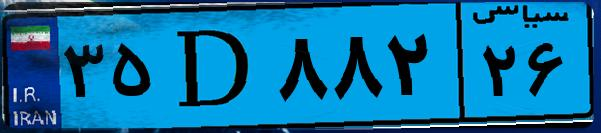2: (385, 28, 445, 110), (475, 38, 525, 113)
3: (57, 26, 110, 100)
5: (110, 28, 158, 98)
6: (525, 38, 570, 115)
8: (270, 28, 330, 110), (330, 28, 385, 110)
D: (158, 12, 270, 120)
